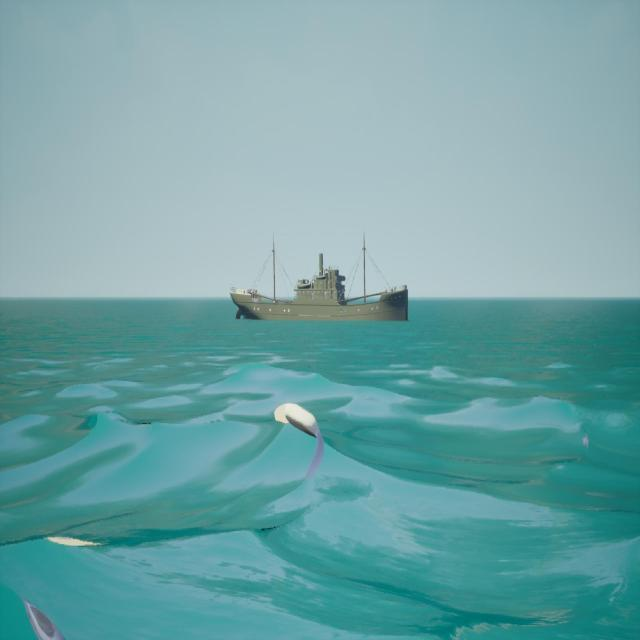fishing ship: (230, 233, 411, 323)
